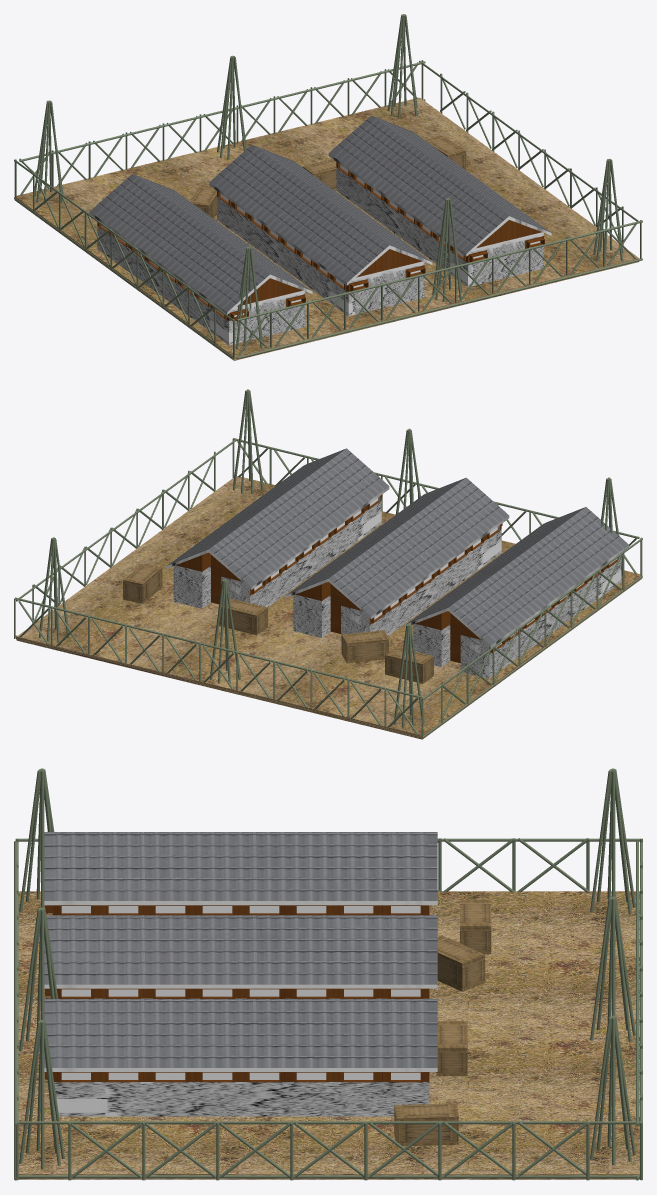
Rendered from barackgrid.fbx.
3 views of the same model, one above another, from view 1: azimuth 30°, elevation 25°; view 2: azimuth 150°, elevation 25°; view 3: azimuth 270°, elevation 25° (orthographic). The views are drawn at different scales.
Visible parts, largest first — view 1: Cube.014, Cube.013, Cylinder.007, Cylinder.001, Cylinder.006, Cylinder.005, Cylinder.002, Cylinder.003, Cylinder.004, Cube.016, Cube.017, Cube.018; view 2: Cube.014, Cube.013, Cylinder.007, Cube.018, Cylinder.005, Cube.016, Cube.017, Cylinder.001, Cylinder.006, Cylinder.002, Cube.019, Cylinder.003 (+1 smaller); view 3: Cube.014, Cube.013, Cylinder.007, Cylinder.001, Cylinder.005, Cylinder.002, Cylinder.006, Cube.016, Cylinder.003, Cylinder.004, Cube.018, Cube.017 (+1 smaller).
Part boxes in pixels (x1,y1,x2,y2): Cube.014: [89, 115, 551, 345]; Cube.013: [15, 97, 639, 360]; Cylinder.007: [14, 60, 642, 359]; Cylinder.001: [387, 14, 417, 118]; Cylinder.006: [217, 55, 246, 159]; Cylinder.005: [593, 158, 623, 262]; Cylinder.002: [34, 100, 63, 204]; Cylinder.003: [432, 198, 462, 302]; Cylinder.004: [236, 246, 262, 350]; Cube.016: [425, 135, 466, 169]; Cube.017: [302, 159, 336, 189]; Cube.018: [189, 185, 216, 218]; Cube.014: [166, 448, 628, 678]; Cube.013: [16, 476, 642, 739]; Cylinder.007: [14, 438, 642, 738]; Cube.018: [341, 630, 389, 662]; Cylinder.005: [233, 389, 263, 493]; Cube.016: [123, 563, 162, 603]; Cube.017: [219, 598, 267, 635]; Cylinder.001: [38, 537, 69, 641]; Cylinder.006: [210, 579, 240, 683]; Cylinder.002: [393, 624, 424, 728]; Cube.019: [385, 647, 433, 683]; Cylinder.003: [395, 428, 420, 514]; Cube.014: [44, 832, 437, 1116]; Cube.013: [18, 891, 639, 1179]; Cylinder.007: [14, 838, 642, 1180]; Cylinder.001: [590, 1015, 635, 1165]; Cylinder.005: [19, 1020, 64, 1169]; Cylinder.002: [590, 768, 635, 914]; Cylinder.006: [590, 896, 635, 1042]; Cube.016: [394, 1103, 458, 1146]; Cylinder.003: [19, 907, 58, 1051]; Cylinder.004: [19, 768, 54, 912]; Cube.018: [437, 935, 485, 991]; Cube.017: [436, 1021, 467, 1075].
Bounding box in the file's own units: 2152 × 506 × 2005.
Materials: 15 (15 with a texture image).
